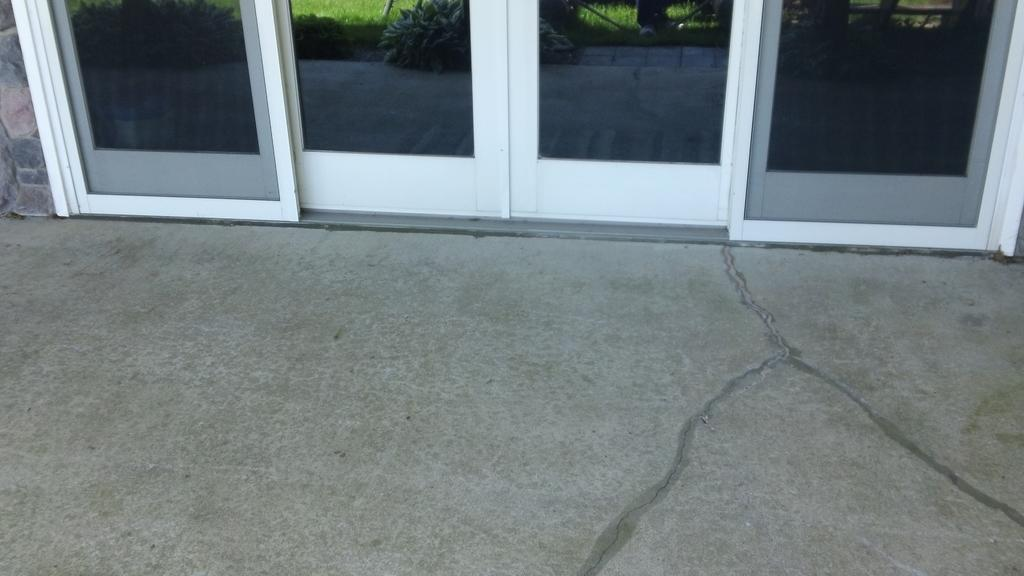door: (510, 9, 732, 226), (298, 4, 504, 212)
